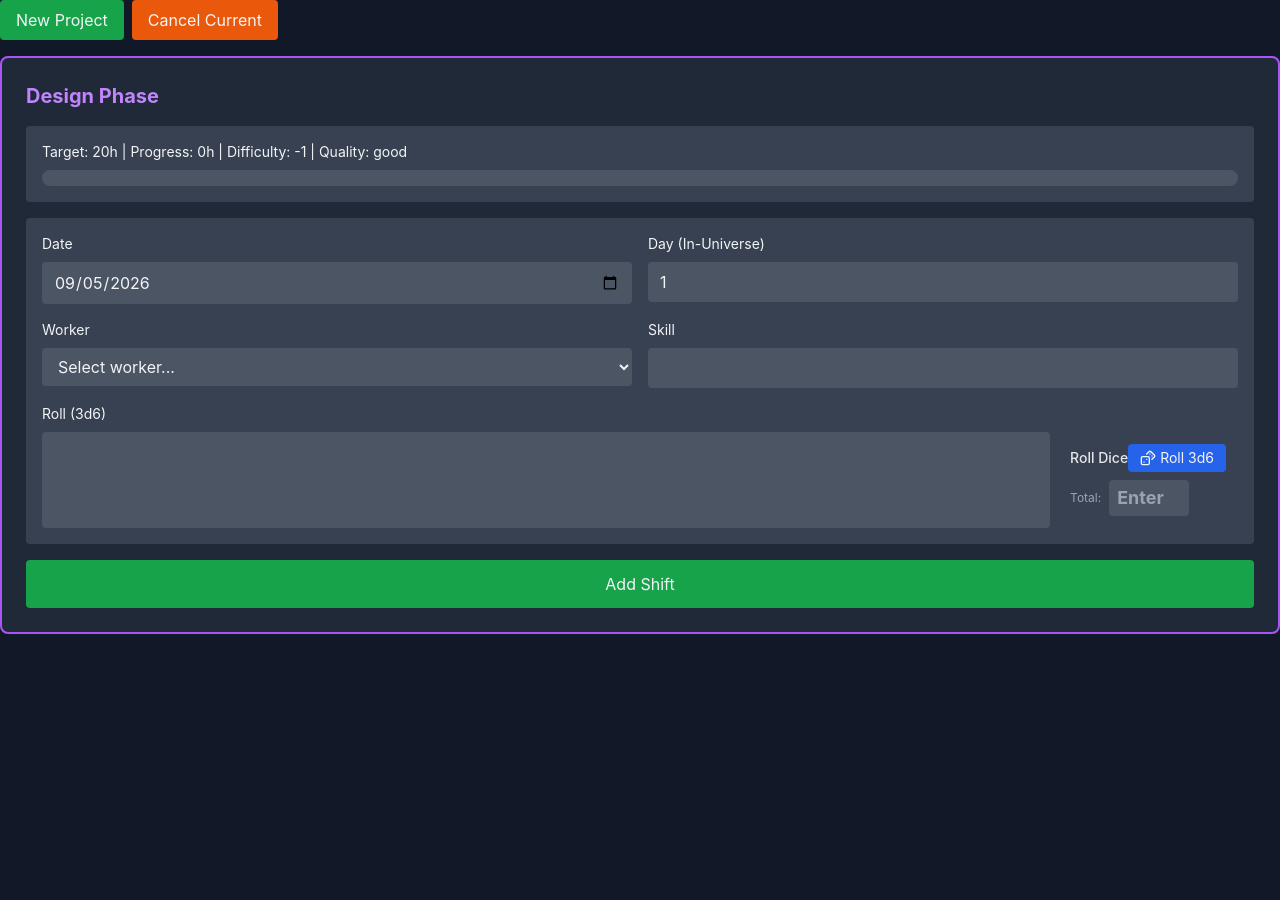
CraftingWorkbench › shows abandon confirm modal when Cancel Current is clicked
Click the button "Cancel Current" at (205, 20), box [132, 0, 278, 40]
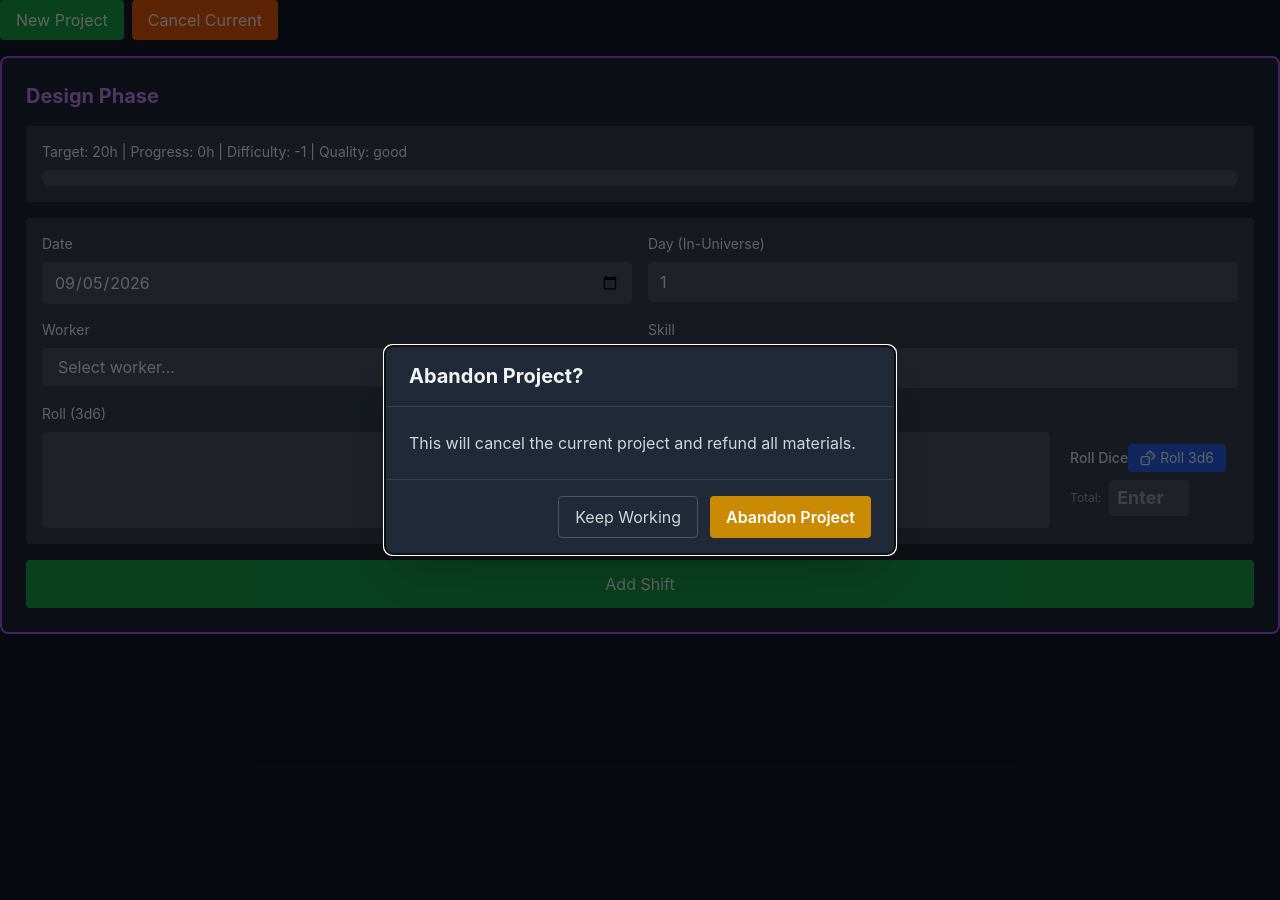
Check: the heading "Abandon Project?" is shown, box [409, 362, 583, 390]
Check: the button "Keep Working" is shown, box [558, 496, 698, 538]
Check: the button "Abandon Project" is shown, box [710, 496, 871, 538]
